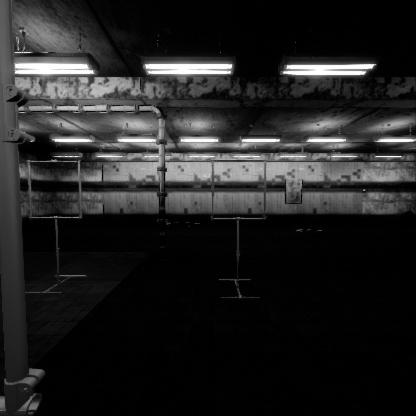gate: (211, 195, 271, 257), (28, 196, 86, 255)
